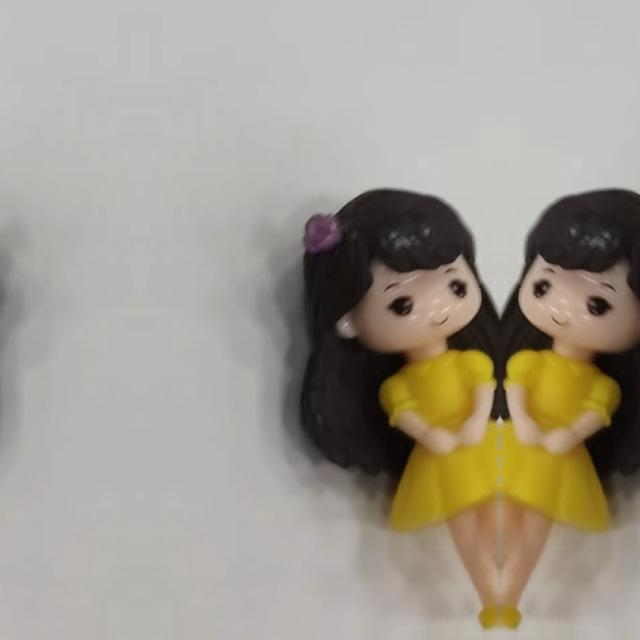woman dress: (374, 348, 501, 640), (499, 348, 626, 640)
woman head: (292, 196, 494, 354), (506, 196, 640, 354)
